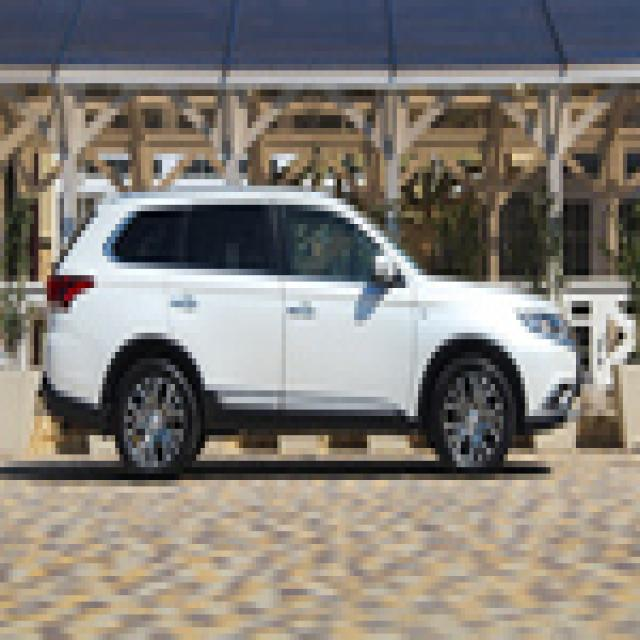light_vehicle: (41, 179, 578, 480)
